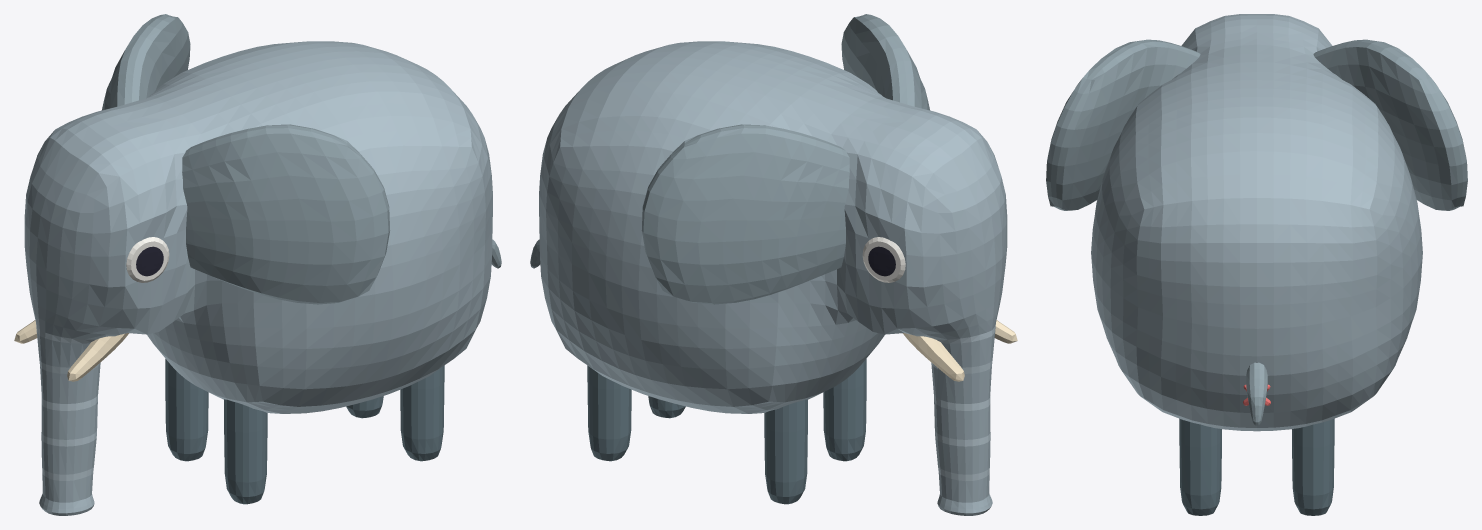
Rendered from Elephant_LOD0.fbx.
The picture shows the model from 3 angles, left to right: view 1: azimuth 30°, elevation 25°; view 2: azimuth 150°, elevation 25°; view 3: azimuth 270°, elevation 25°; orthographic projection. The views are drawn at different scales.
Visible parts, largest first — view 1: Mesh; view 2: Mesh; view 3: Mesh.
Boxes of the visible parts, x1,y1,x2,y2 form: Mesh: (14,14,501,515); Mesh: (530,14,1017,515); Mesh: (1046,14,1467,515).
Bounding box in the file's own units: 377 × 312 × 310.
1 material, 1 textured.
